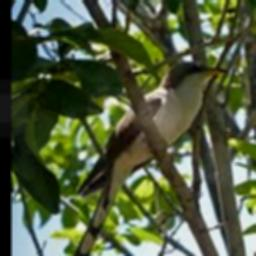Cuckoo: (66, 61, 229, 256)
